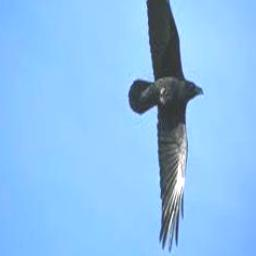Crow: (127, 0, 204, 250)
